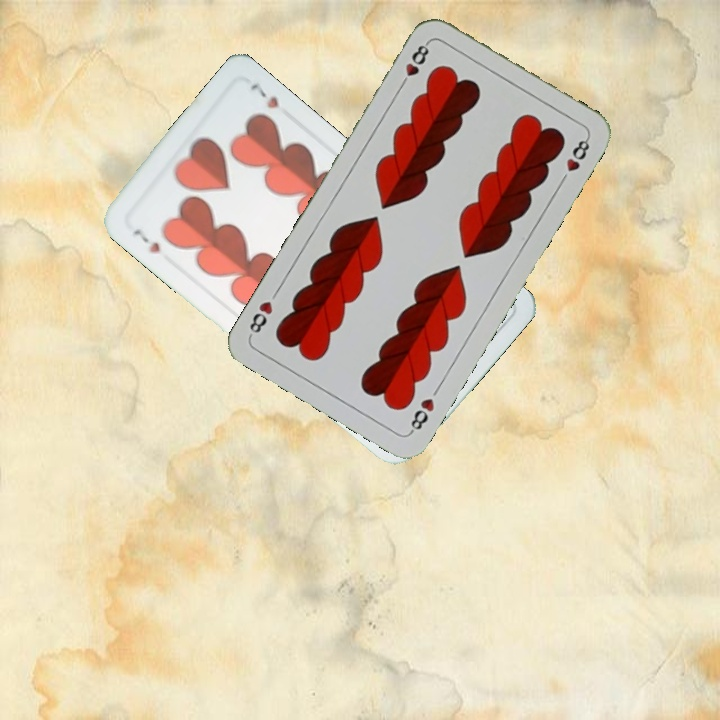H7: (129, 223, 163, 256)
H8: (395, 38, 432, 91), (406, 394, 437, 436)
